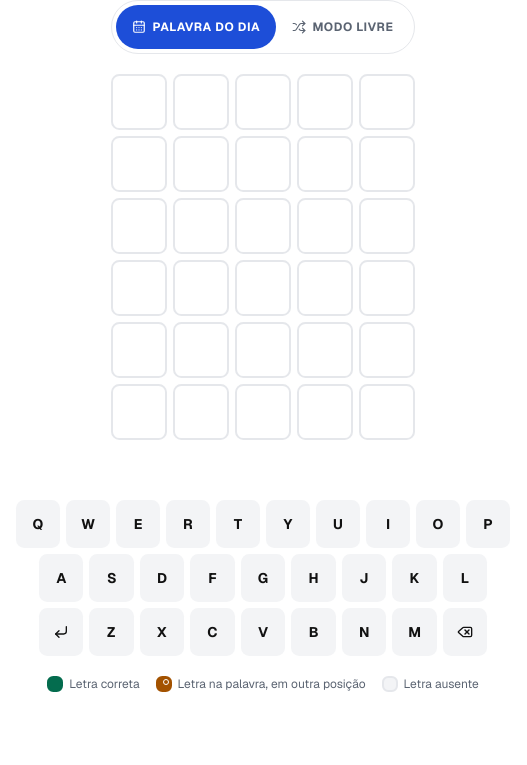
Test: TermoGame › states each letter's result in words, not only in colour
The image size is (527, 765).
Step 1. Click the button "C" → (212, 632), box [190,608,235,656]
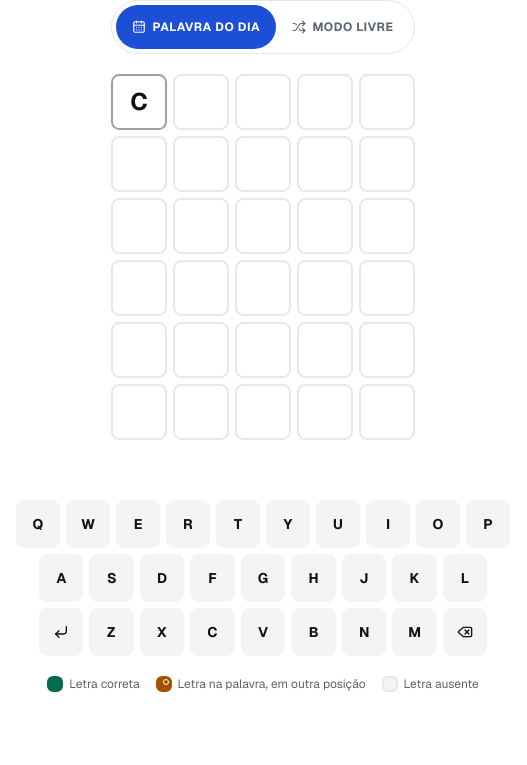
Step 2. Click the button "A" → (61, 578), box [39,554,83,602]
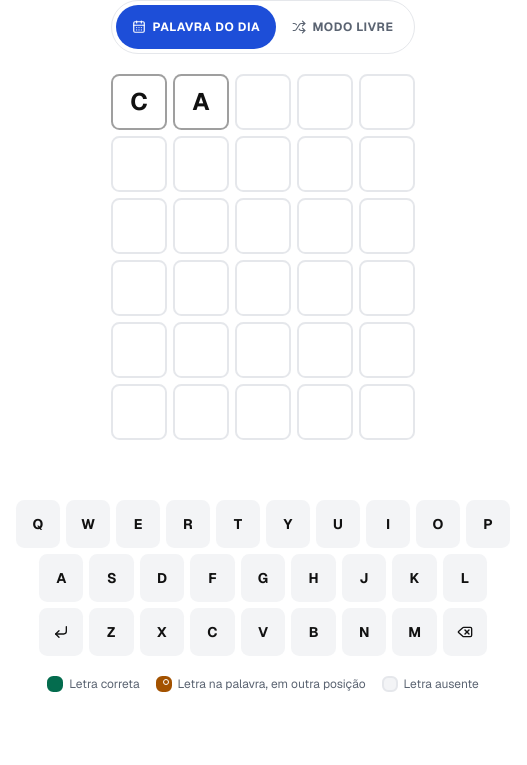
Step 3. Click the button "R" → (188, 524), box [166,500,210,548]
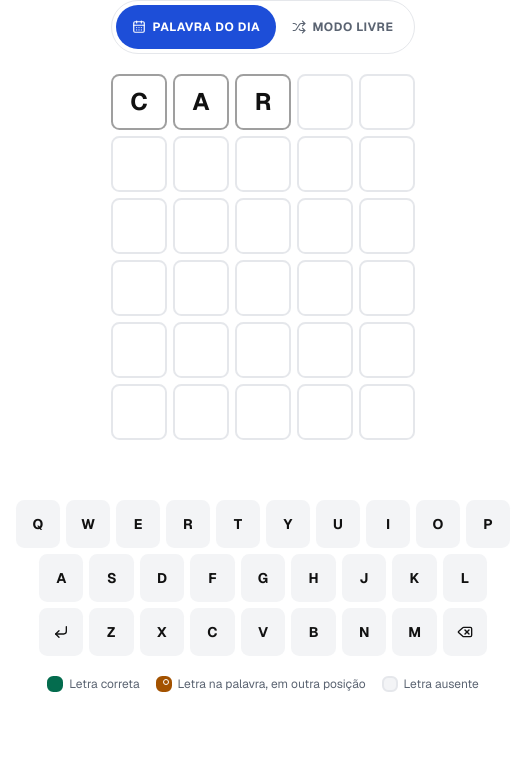
Step 4. Click the button "N" → (364, 632), box [342,608,386,656]
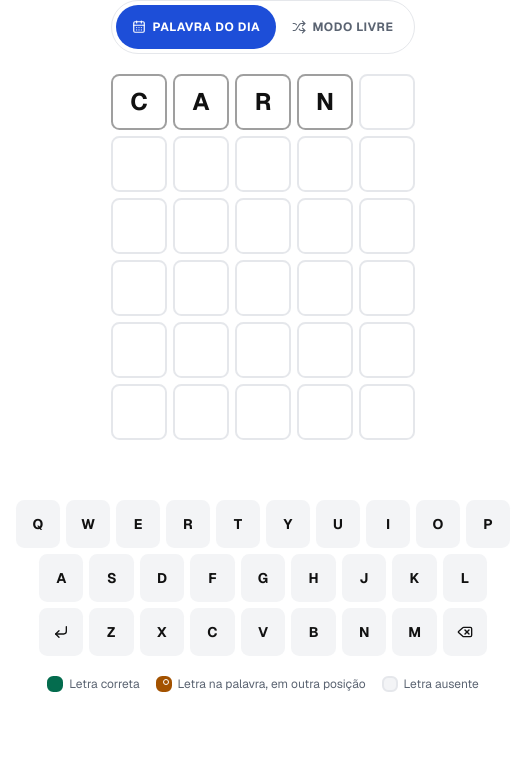
Step 5. Click the button "E" → (138, 524), box [116,500,160,548]
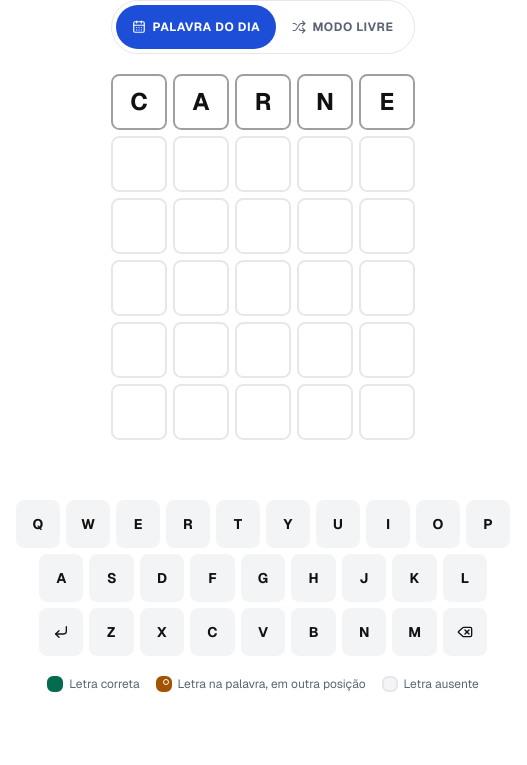
Step 6. Click the button named "Enviar palavra" → (61, 632), box [39,608,83,656]
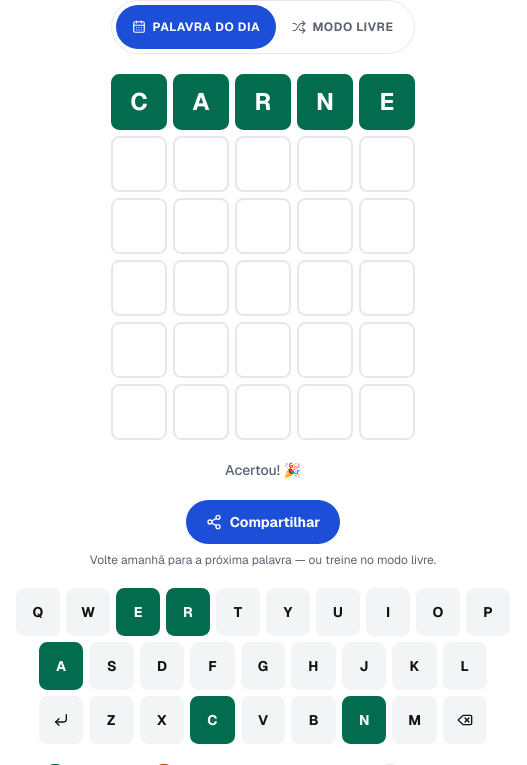
Now the text "Acertou! 🎉" is shown, box [225,460,301,480]
